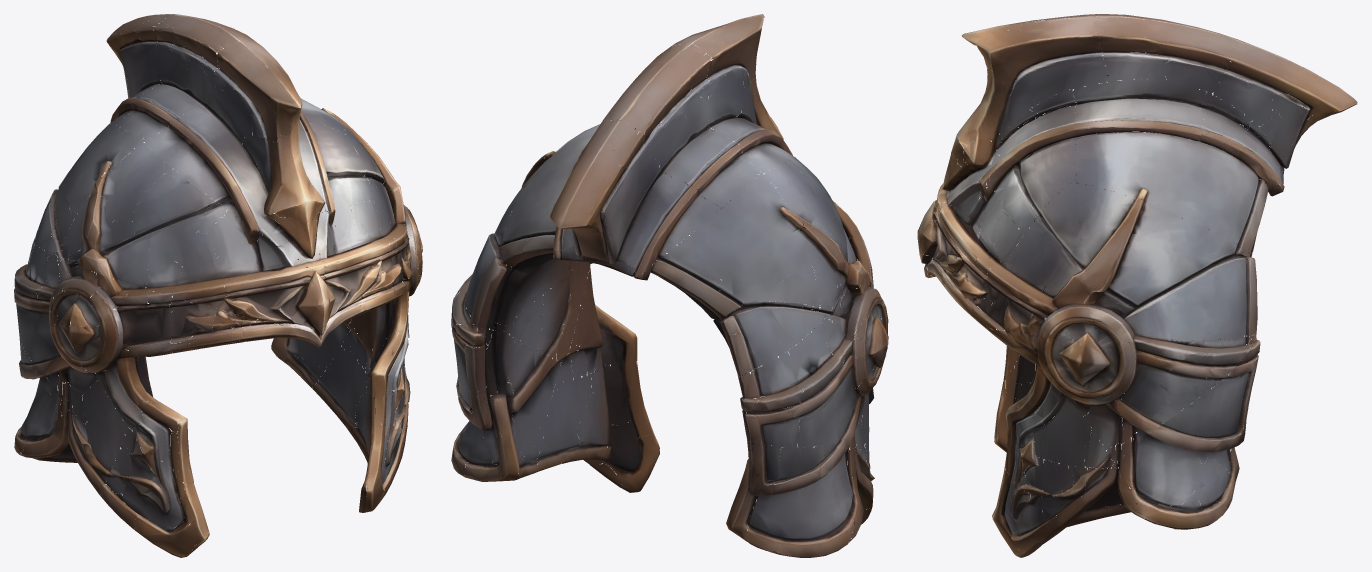
Rendered from helm_e.glb.
3 views of the same model, side by side, from view 1: azimuth 30°, elevation 25°; view 2: azimuth 150°, elevation 25°; view 3: azimuth 270°, elevation 25° (orthographic). The views are drawn at different scales.
Parts seen in each view (by area): view 1: tripo_node_c26714b3-9ca9-4030-919d-bc7b00110754; view 2: tripo_node_c26714b3-9ca9-4030-919d-bc7b00110754; view 3: tripo_node_c26714b3-9ca9-4030-919d-bc7b00110754.
Boxes of the visible parts, box(x1,y1,x2,y2) form: tripo_node_c26714b3-9ca9-4030-919d-bc7b00110754: box(14, 14, 422, 557); tripo_node_c26714b3-9ca9-4030-919d-bc7b00110754: box(451, 14, 888, 557); tripo_node_c26714b3-9ca9-4030-919d-bc7b00110754: box(917, 14, 1357, 557).
Bounding box in the file's own units: 0.8032 × 0.9802 × 0.791.
1 material, 1 textured.
